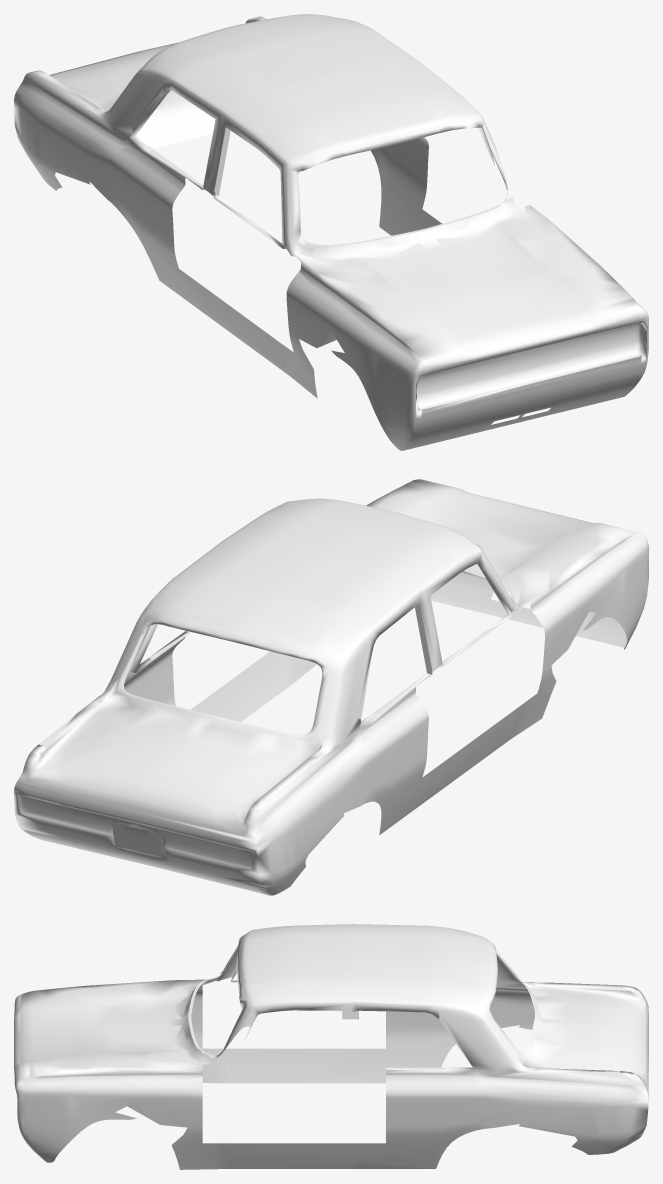
3 renders of one model, top to bottom at view 1: azimuth 30°, elevation 25°; view 2: azimuth 150°, elevation 25°; view 3: azimuth 270°, elevation 25°, orthographic. The views are drawn at different scales.
Bounding box in the file's own units: 1.51 × 1.21 × 4.04.
1 material, 1 textured.
